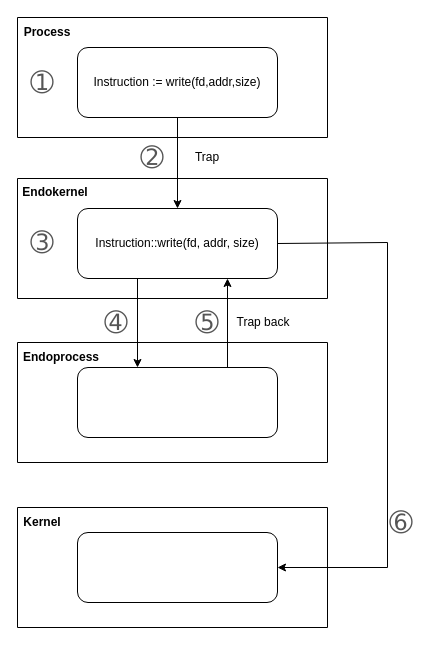
Some shapes in this 434 by 645 pixel diagram are drawn without their labels. The centre of each missing label's shape, as x and y in pixels:
"exec(Instruction::write(fd,addr,size))" belongs at point (177, 402).
"Syscall::write(fd,addr,size)" belongs at point (177, 567).
